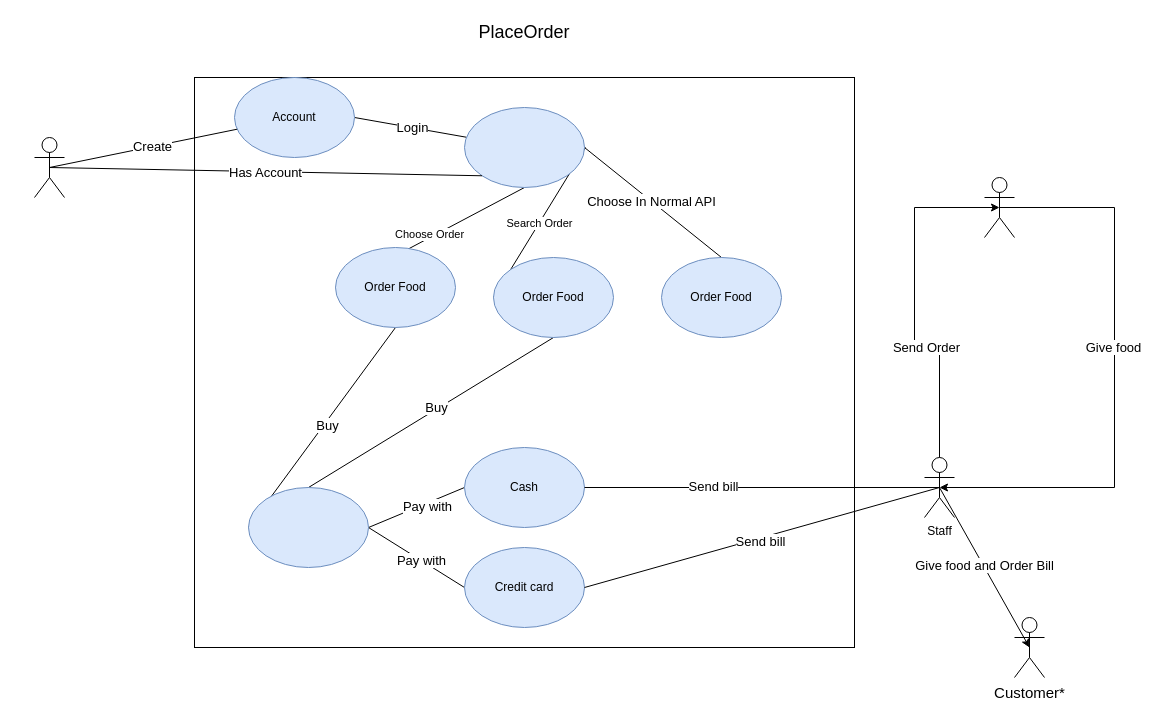
Image size: 1158x719. Some labels were removed from this diagram. Here are the shapes that lost their labels. From the top down, the box of each, then its label:
(34, 136, 64, 198): Customer
(464, 106, 584, 188): Website Restaurant
(984, 176, 1014, 238): Chef
(248, 486, 368, 568): API Payment
